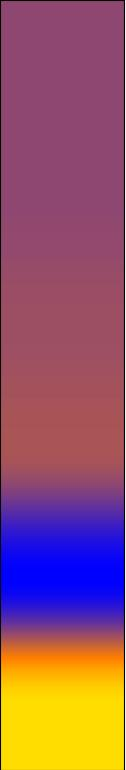Thermal Runaway: (6, 662, 118, 762)
critical: (5, 11, 116, 475), (6, 628, 114, 650)
safe: (6, 494, 120, 616)
